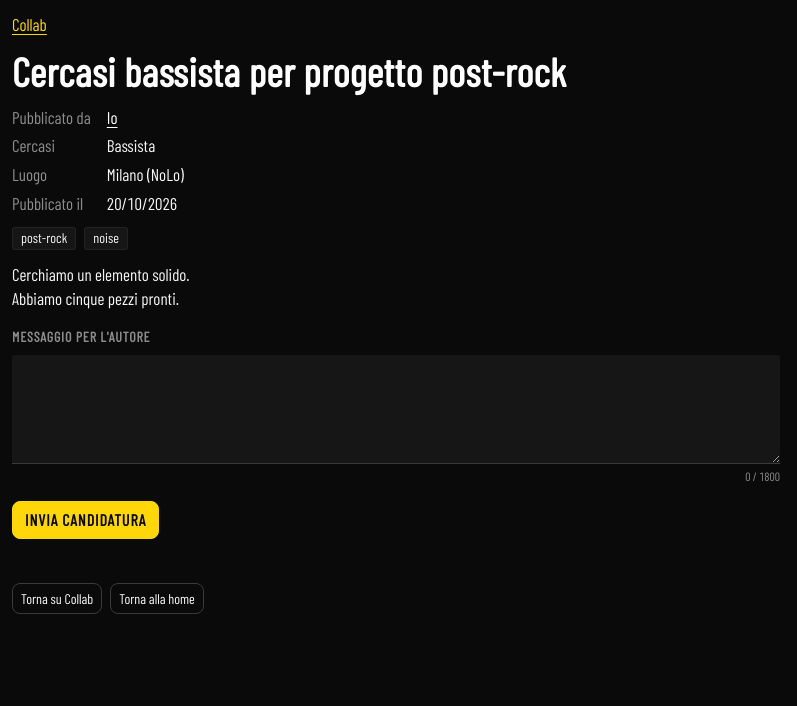
Test case: CollabDetailPage · candidatura › un altro rifiuto (COLLAB_CLOSED) non rilegge il dettaglio e il modulo resta
This screenshot has width=797, height=706.
Type "Ciao" into the text box labelled "Messaggio per l'autore" at {"x": 396, "y": 410}, box 12,355 -> 780,464
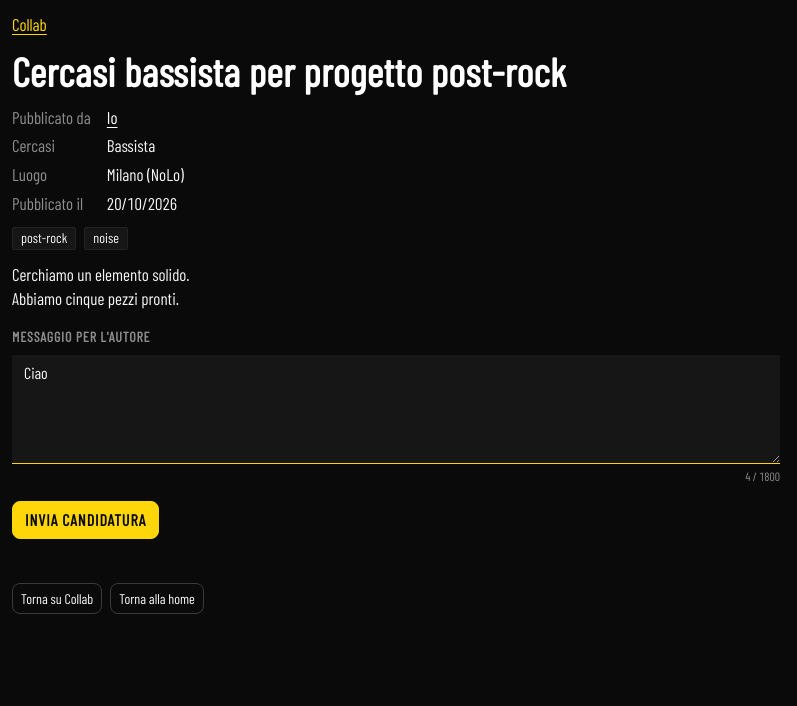
Click the button "Invia candidatura" at {"x": 86, "y": 520}, box 12,502 -> 159,540
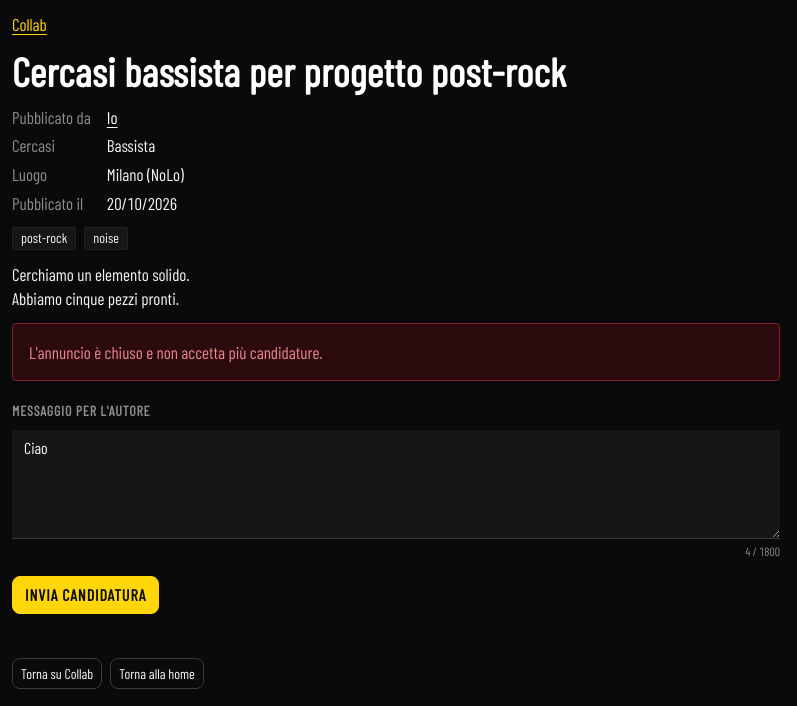
Result: the text "L'annuncio è chiuso e non accetta più candidature." is shown at 12,323 -> 780,381
